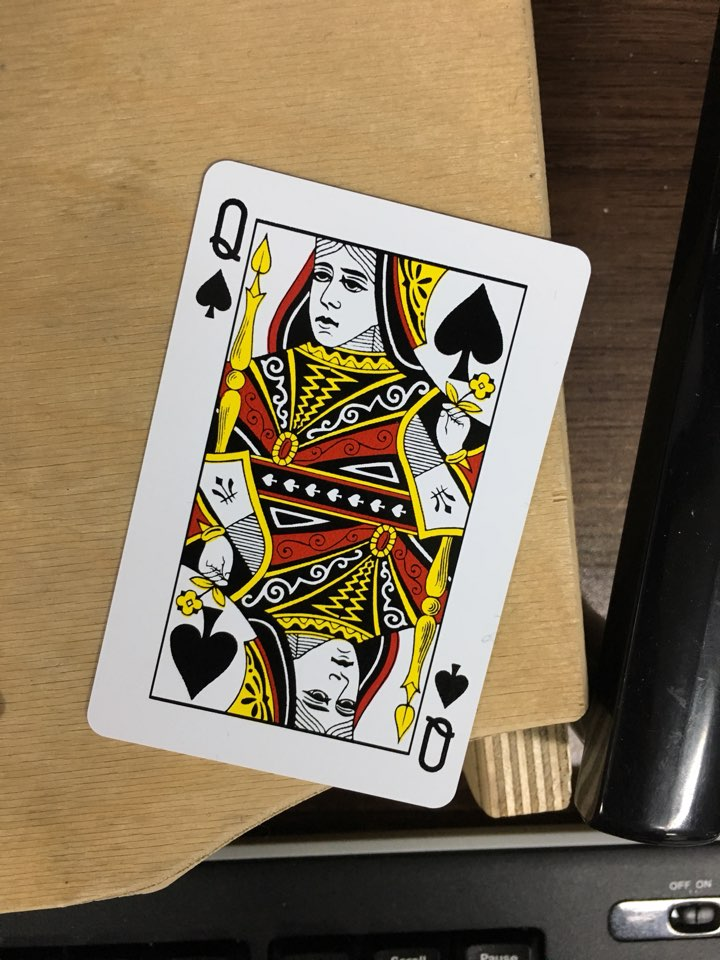queen: (61, 140, 594, 857)
